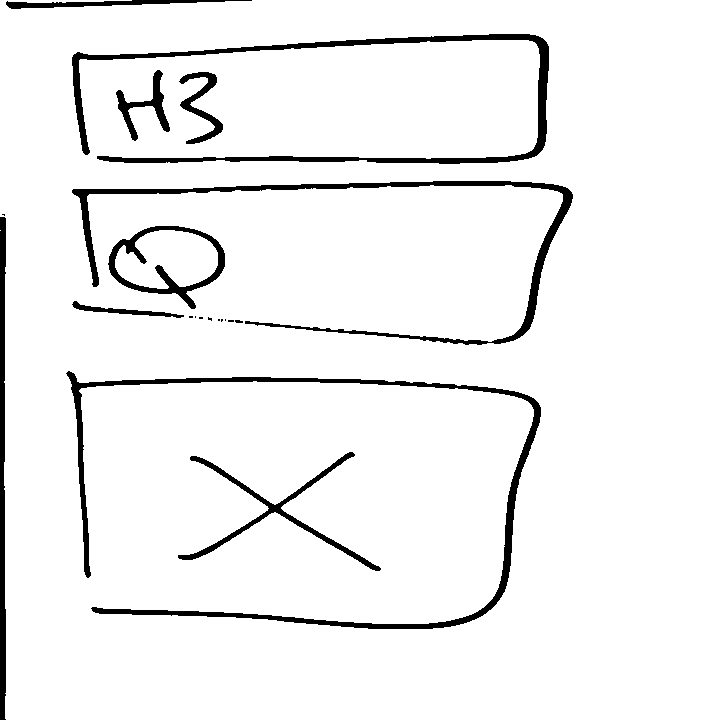heading3: (60, 33, 558, 170)
picture: (64, 367, 543, 638)
search bar: (65, 173, 580, 354)
